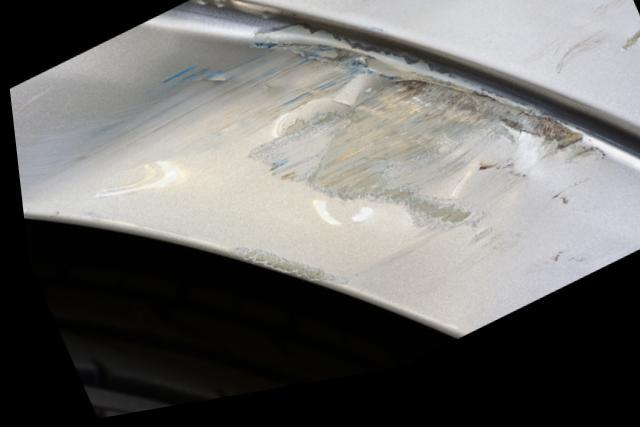scratch: (12, 41, 605, 303), (527, 0, 640, 101)
